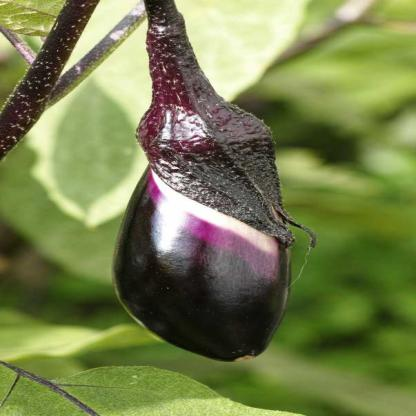--: (89, 3, 318, 372)
